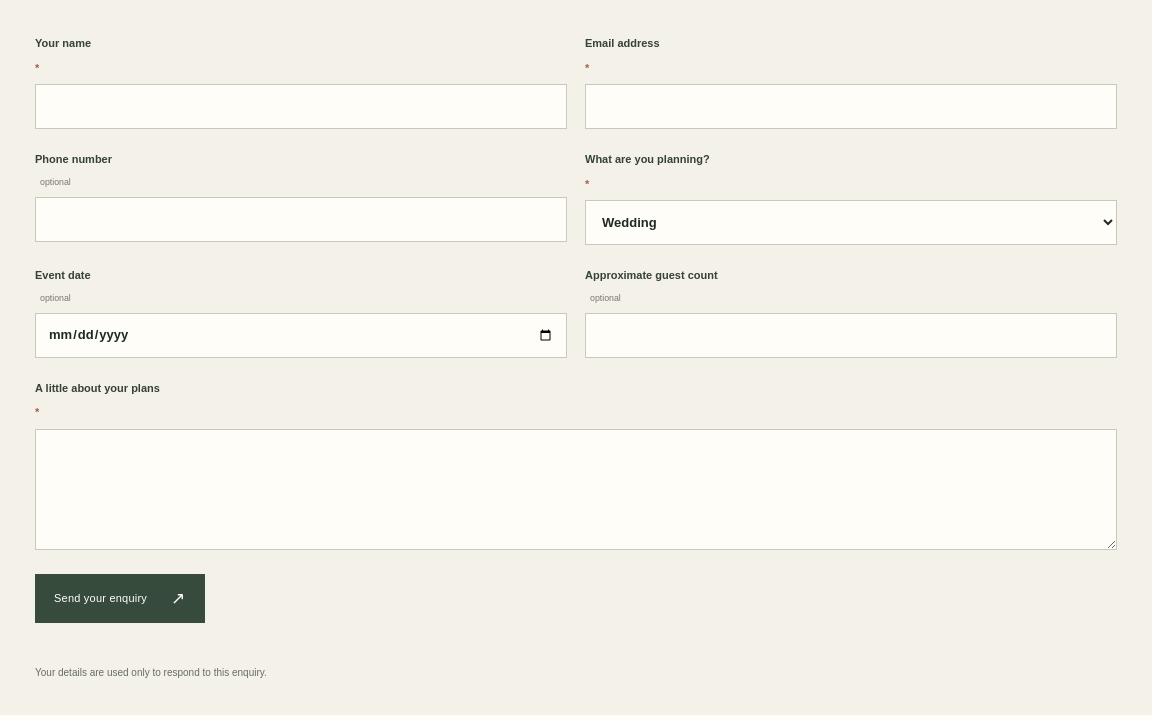
enquiry form › submits to the public API route and announces success
In the field labelled "Your name *": (301, 106) [35,84,567,129], type "Asha Kumar"
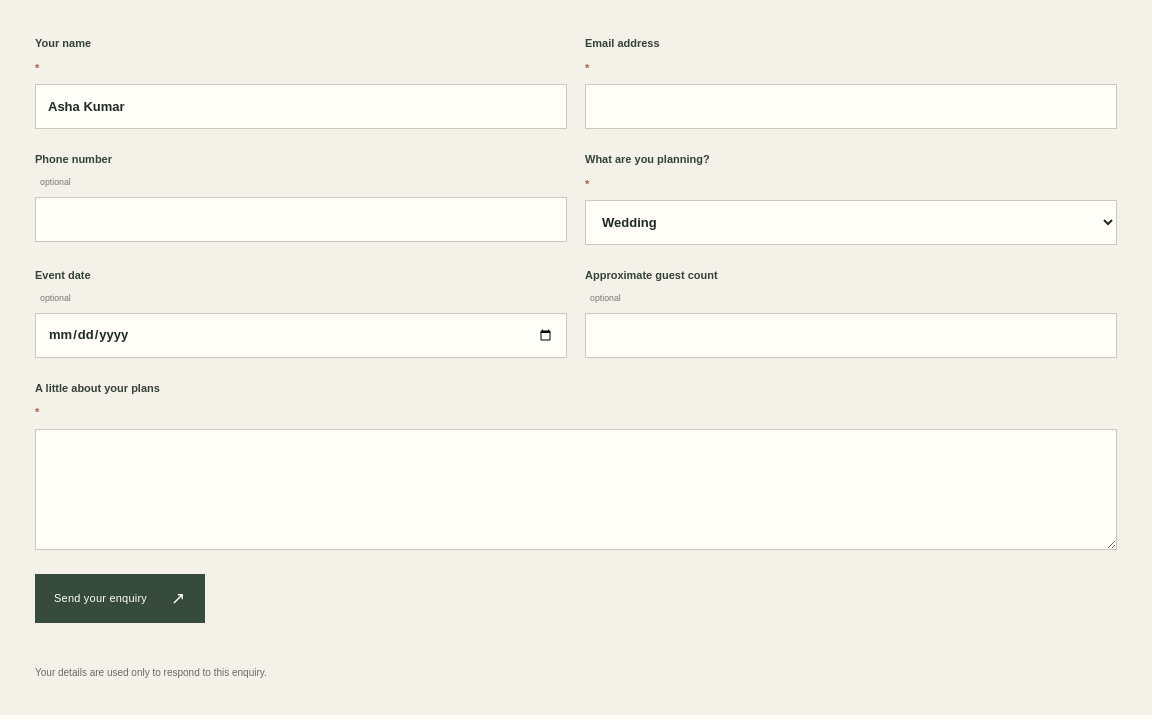
In the field labelled "Email address *": (851, 106) [585,84,1117,129], type "asha@example.org"
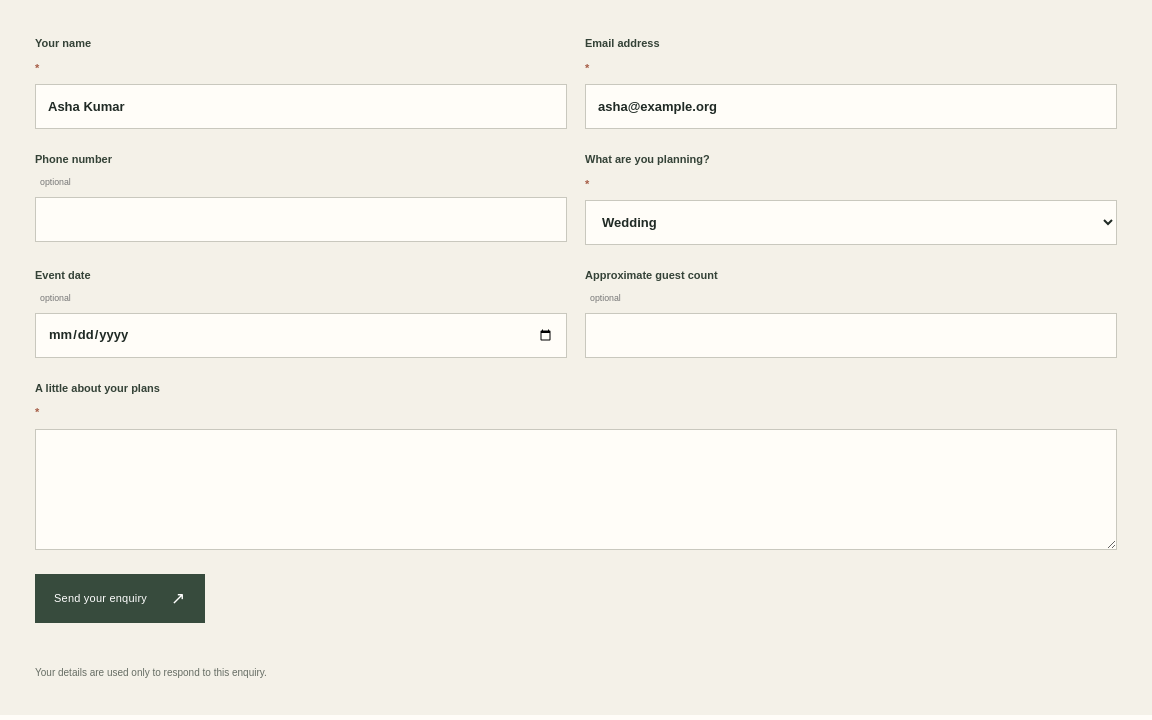
Select "Wedding" in the dropdown labelled "What are you planning? *": (851, 222) [585,200,1117,245]
In the text box labelled "A little about your plans *": (576, 489) [35,429,1117,550], type "We are planning a family wedding and would love to discuss coordination."
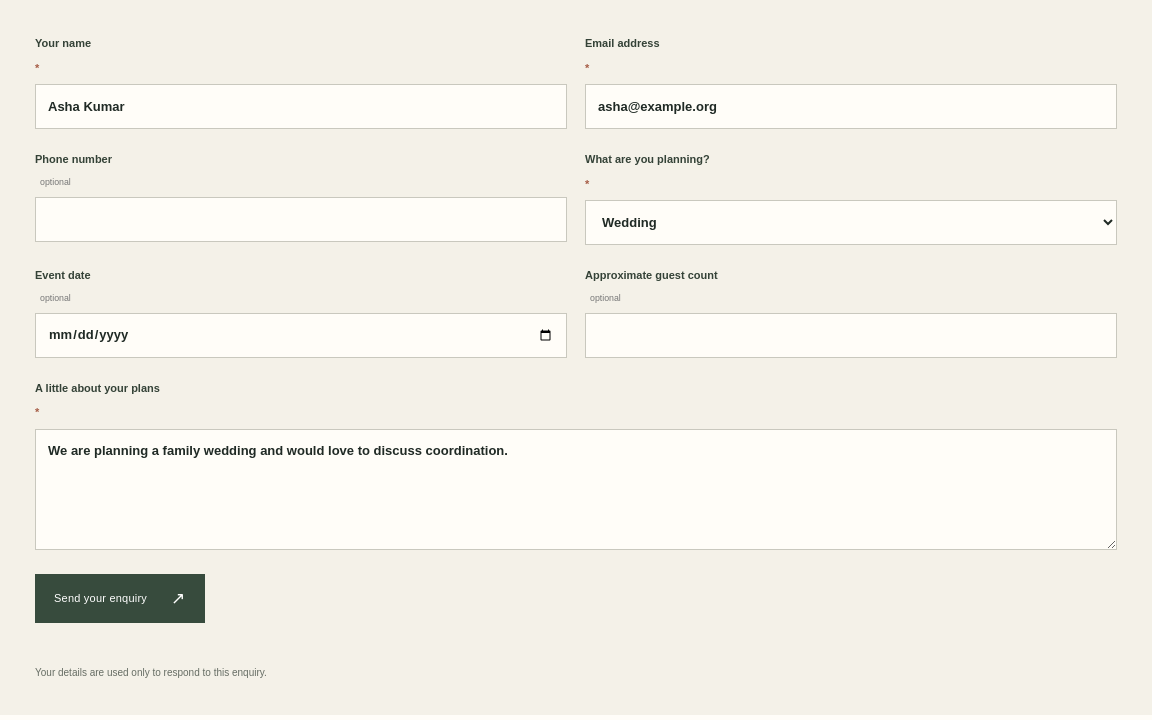
Submit the form named "send your enquiry"
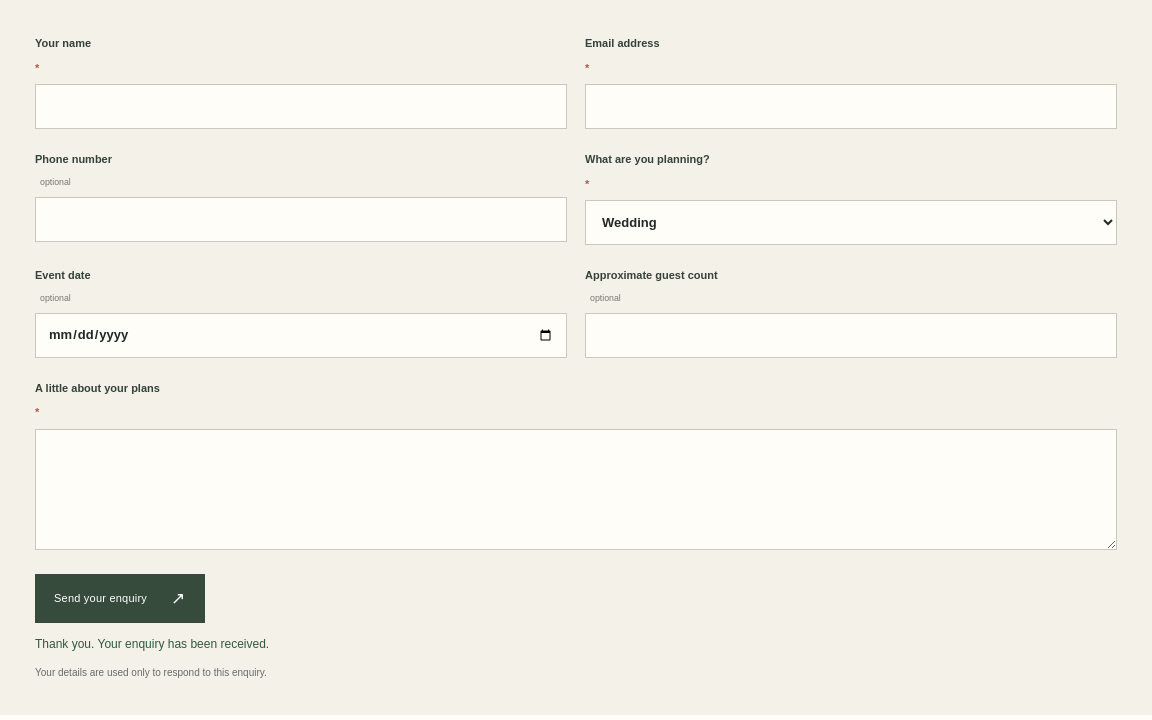
Result: the text "Thank you. Your enquiry has been received." is shown at [35,637,269,651]
